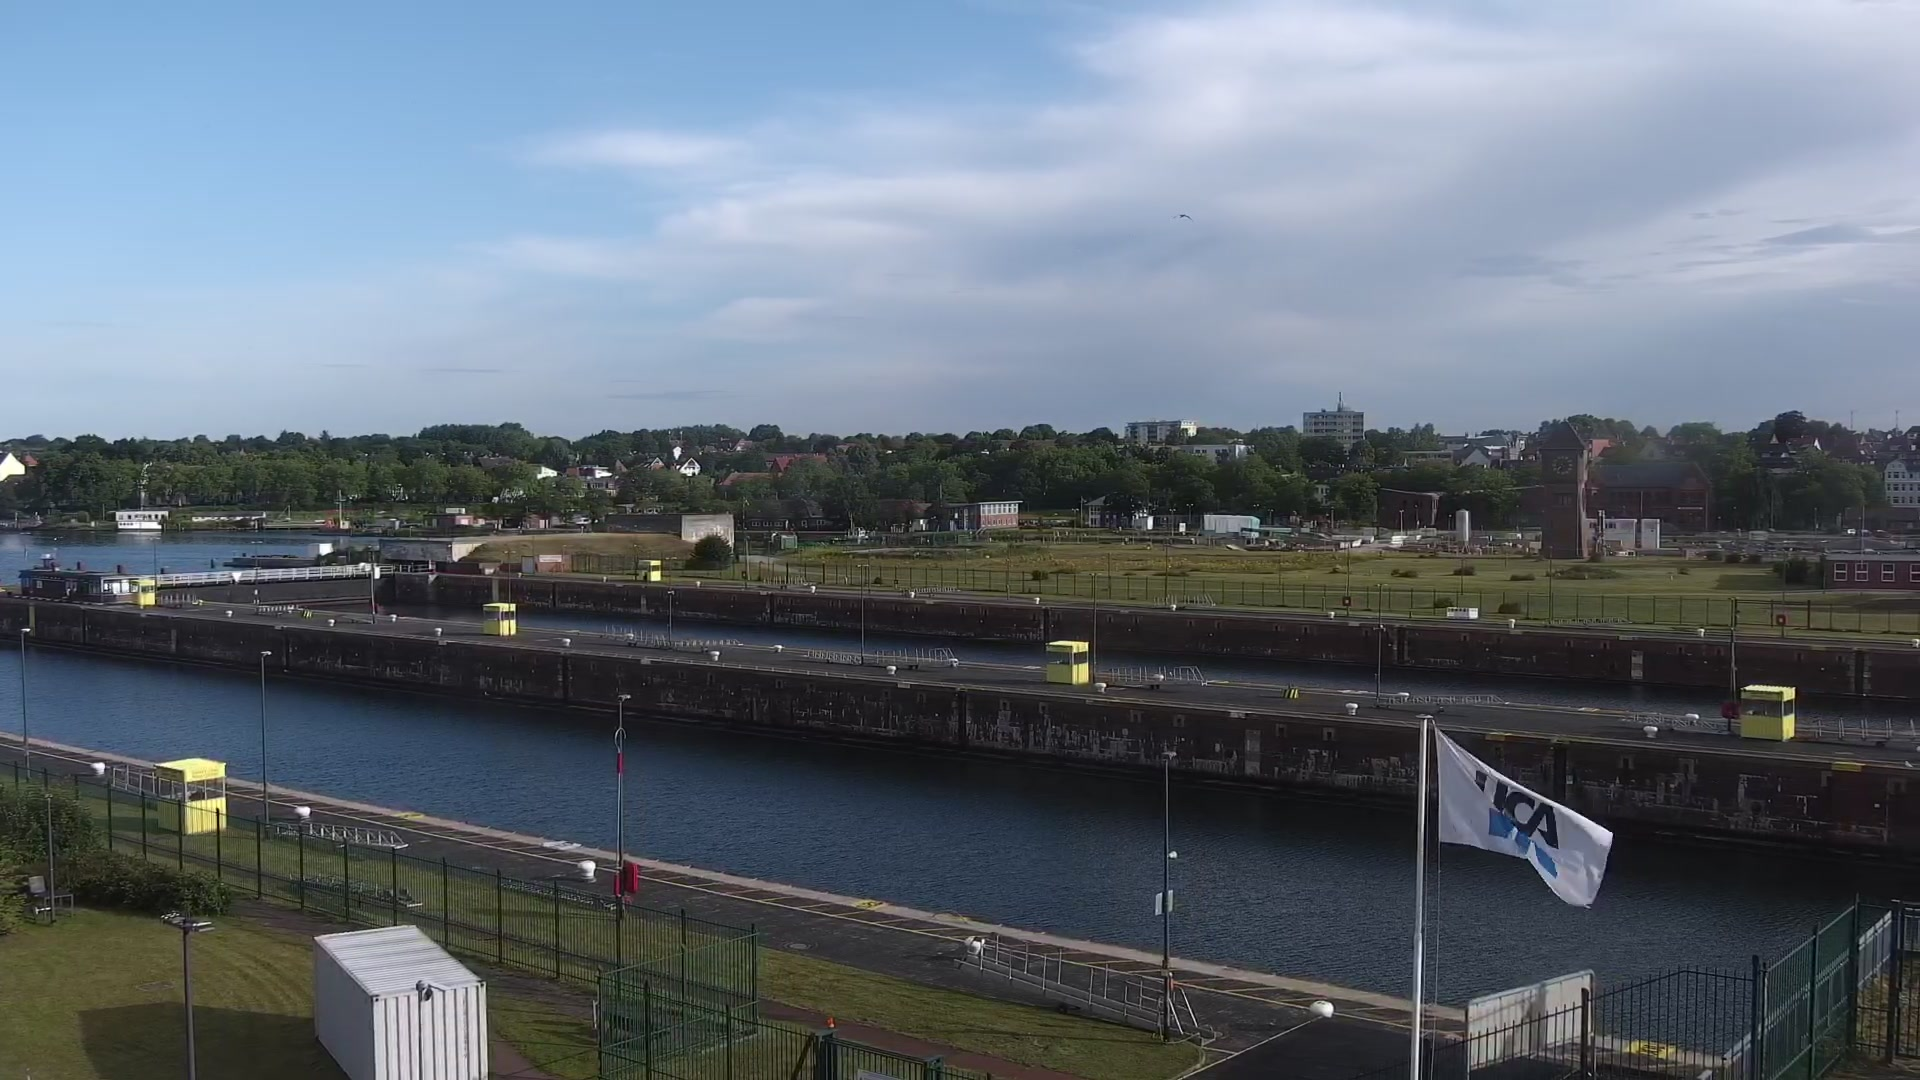land: (1841, 527, 1858, 535), (1873, 529, 1888, 537), (1858, 529, 1873, 537)
